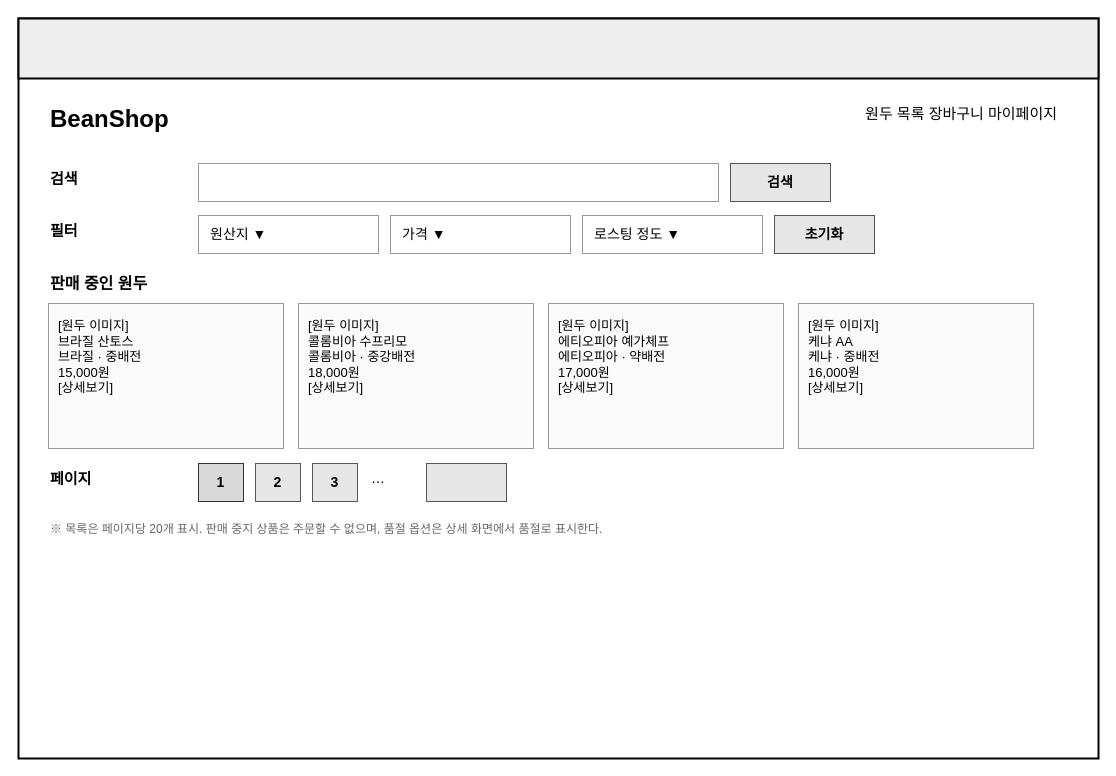
Some shapes in this 1116 by 776 pixel diagram are drawn without their labels. The centre of each missing label's shape, as x and y in pixels:
SCR-01 원두 목록: (x=558, y=48)
다음: (x=466, y=482)
원두 이름 검색: (x=458, y=182)
